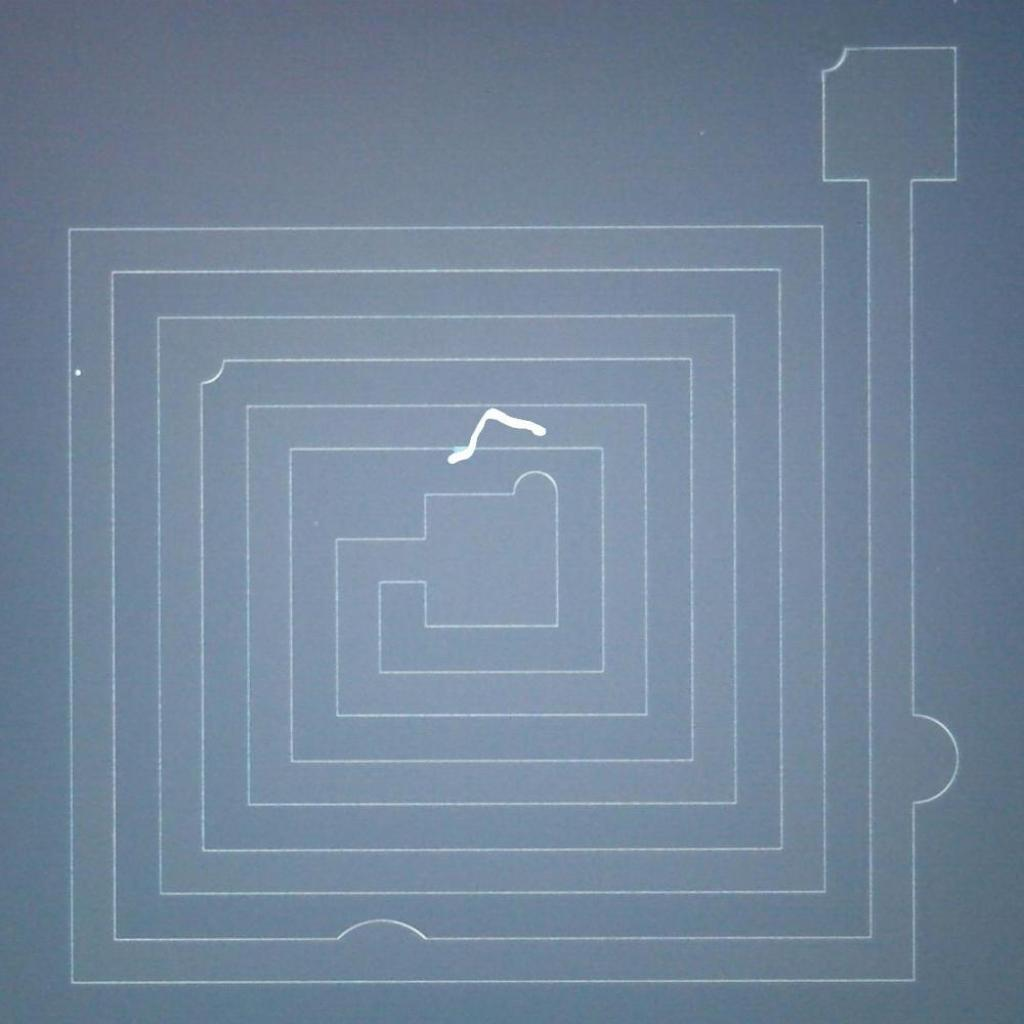curve circuit: (898, 694, 968, 824), (322, 908, 446, 956), (504, 464, 569, 506), (194, 346, 240, 396), (813, 38, 861, 84)
dot: (73, 358, 92, 385)
line: (442, 401, 549, 468)
